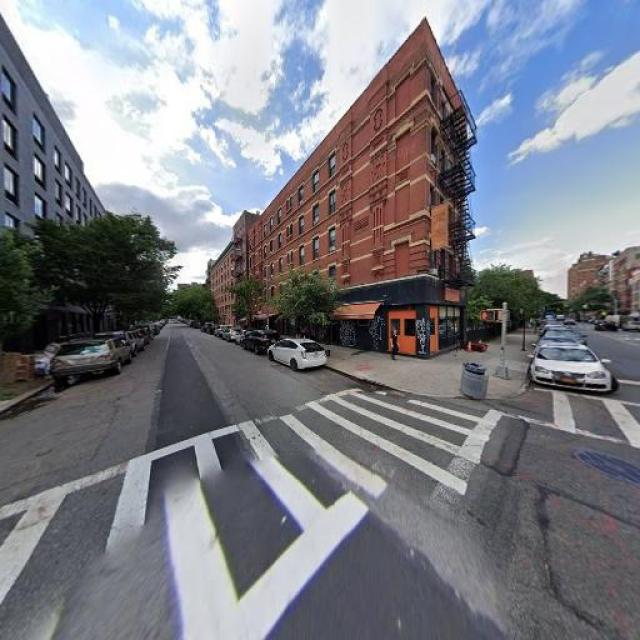Building: (249, 8, 463, 358), (1, 23, 87, 363)
